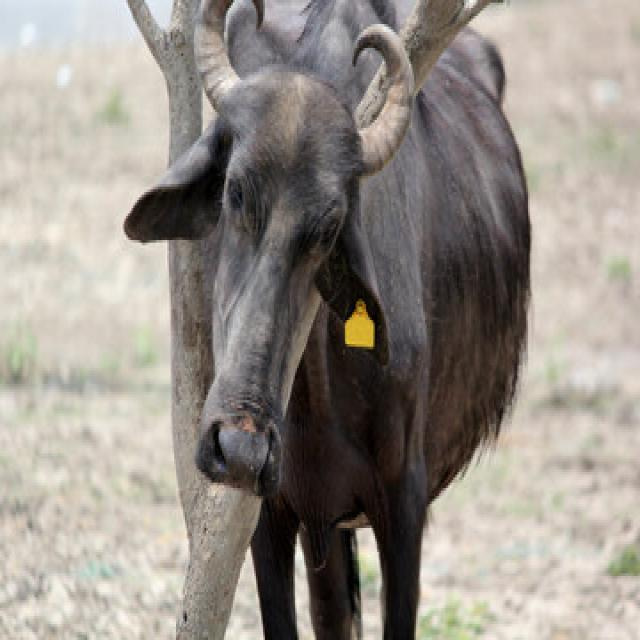Buffalo: (120, 0, 533, 637)
